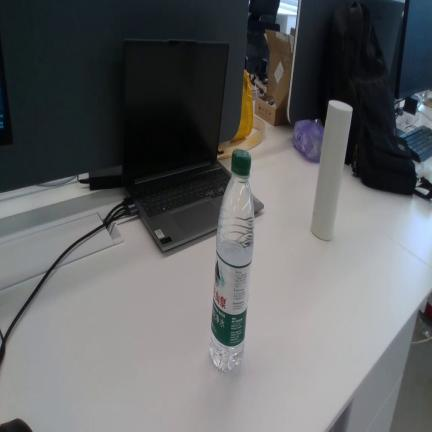bottle: (210, 149, 254, 371)
